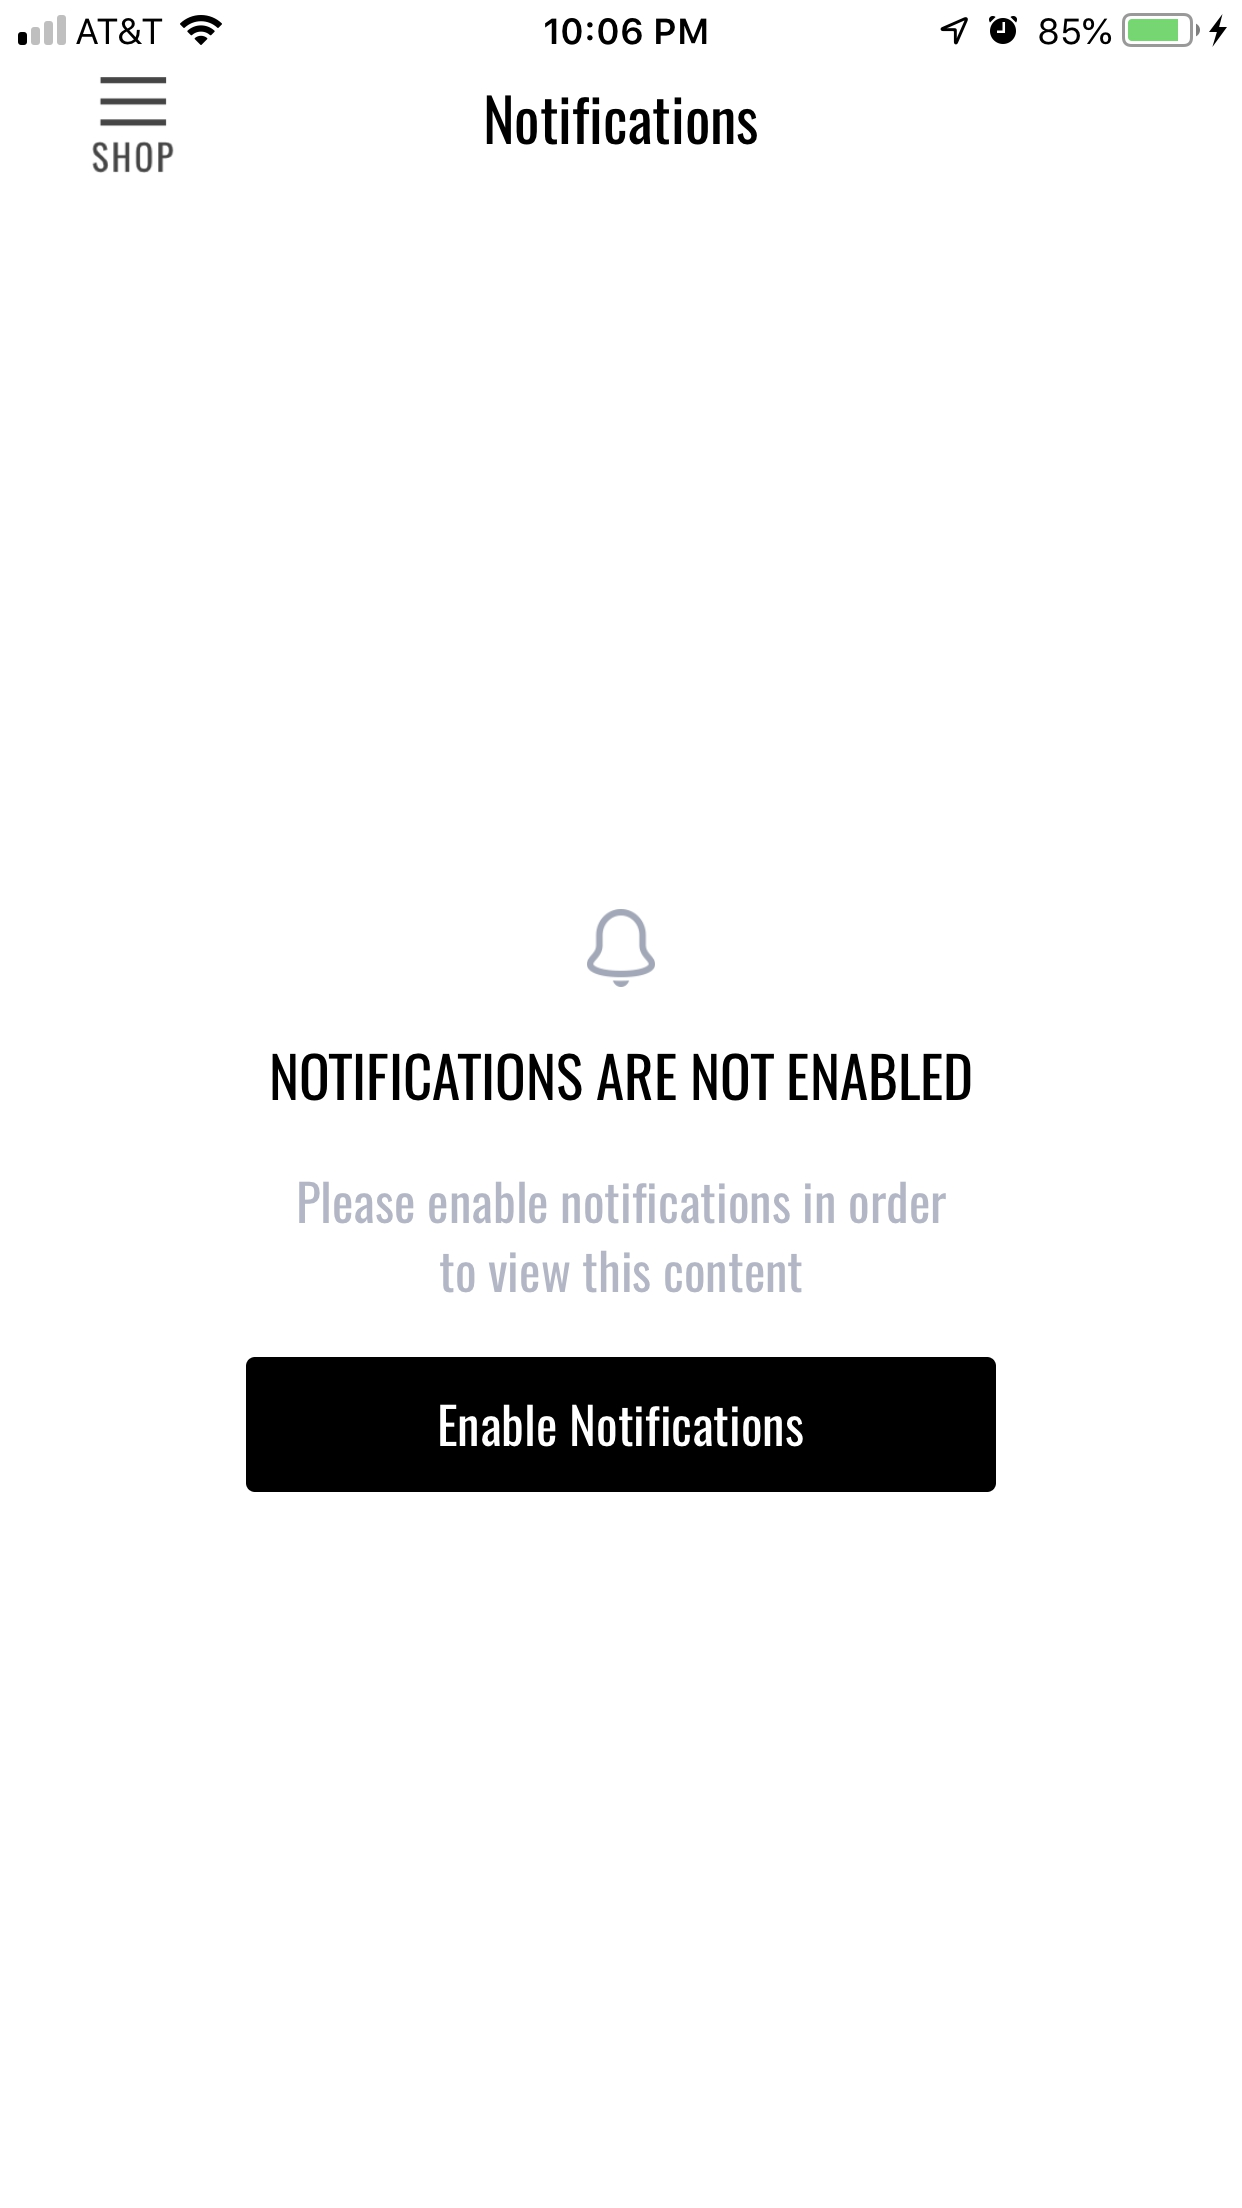Icon: (585, 908, 657, 989), (102, 77, 168, 127)
Text: (299, 1181, 946, 1294), (271, 1052, 972, 1102), (485, 96, 758, 146), (93, 143, 174, 174)
TextButton: (246, 1356, 996, 1494)
UpperTaskBar: (20, 14, 1228, 47)
